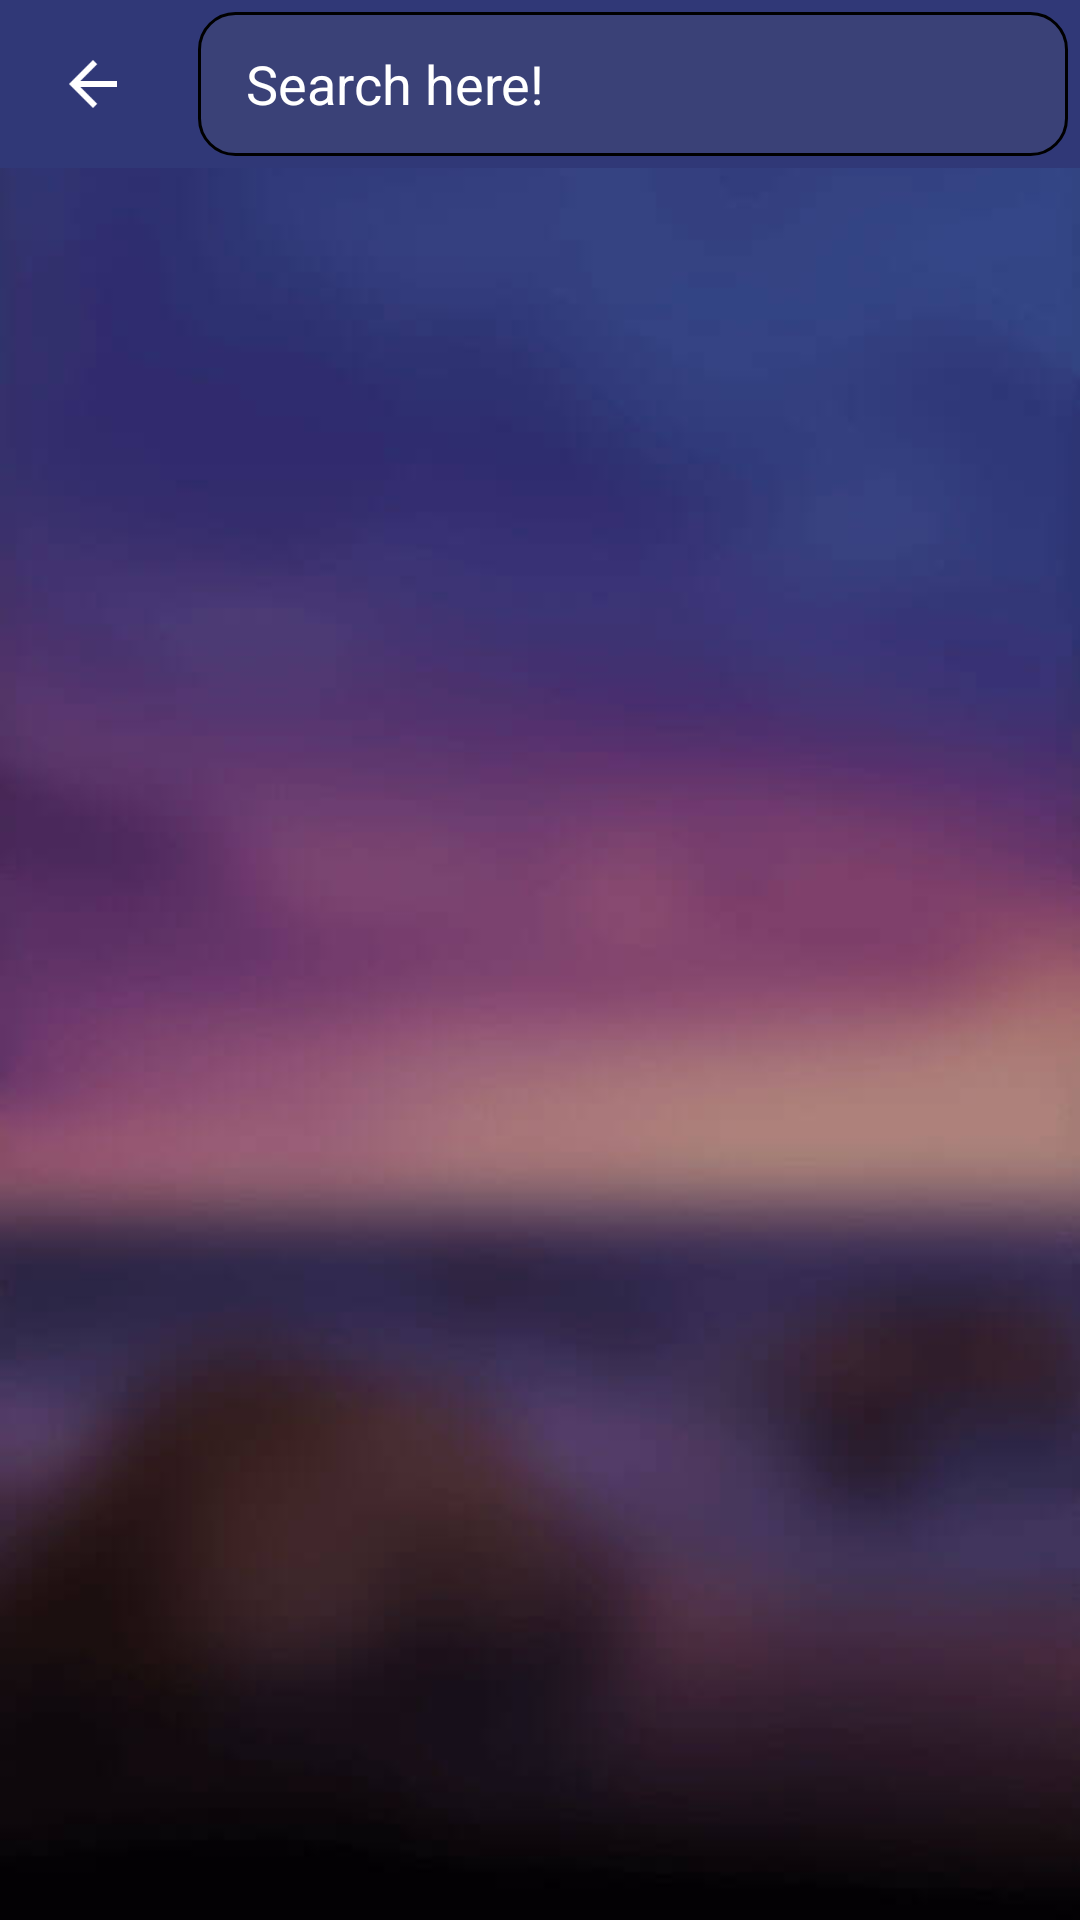

Screen size 1080×1920. Icon name, then its center in pixels as point (x, y):
back: point (93, 84)
